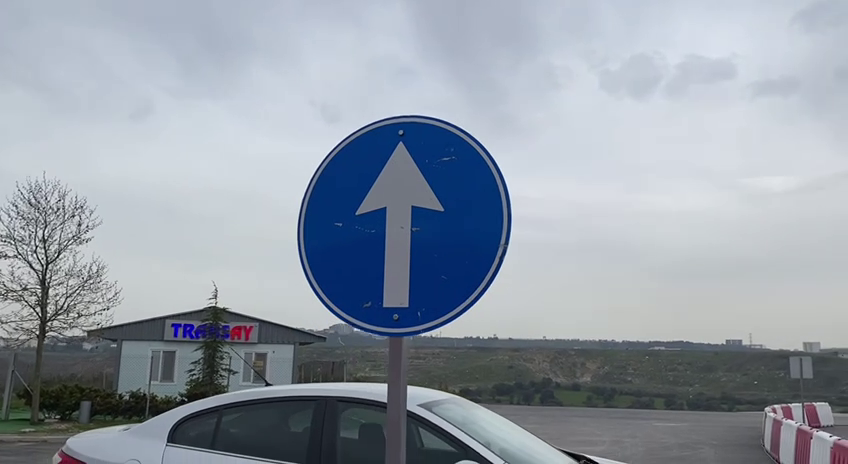forward: (289, 109, 520, 346)
